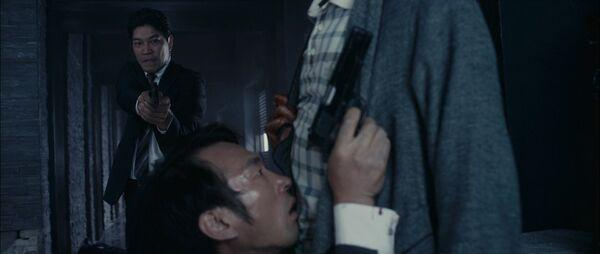Gun: (307, 23, 376, 150), (146, 80, 162, 108)
